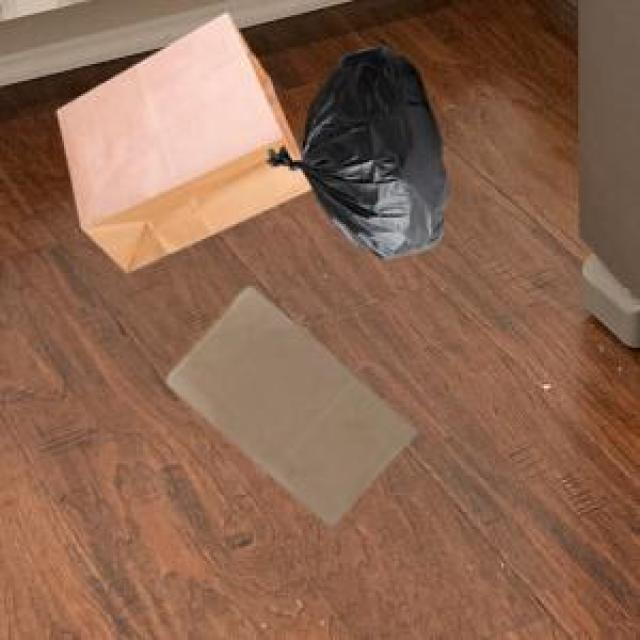miscellaneous trash: (265, 43, 444, 254)
paper: (53, 11, 305, 267), (164, 284, 412, 521)
